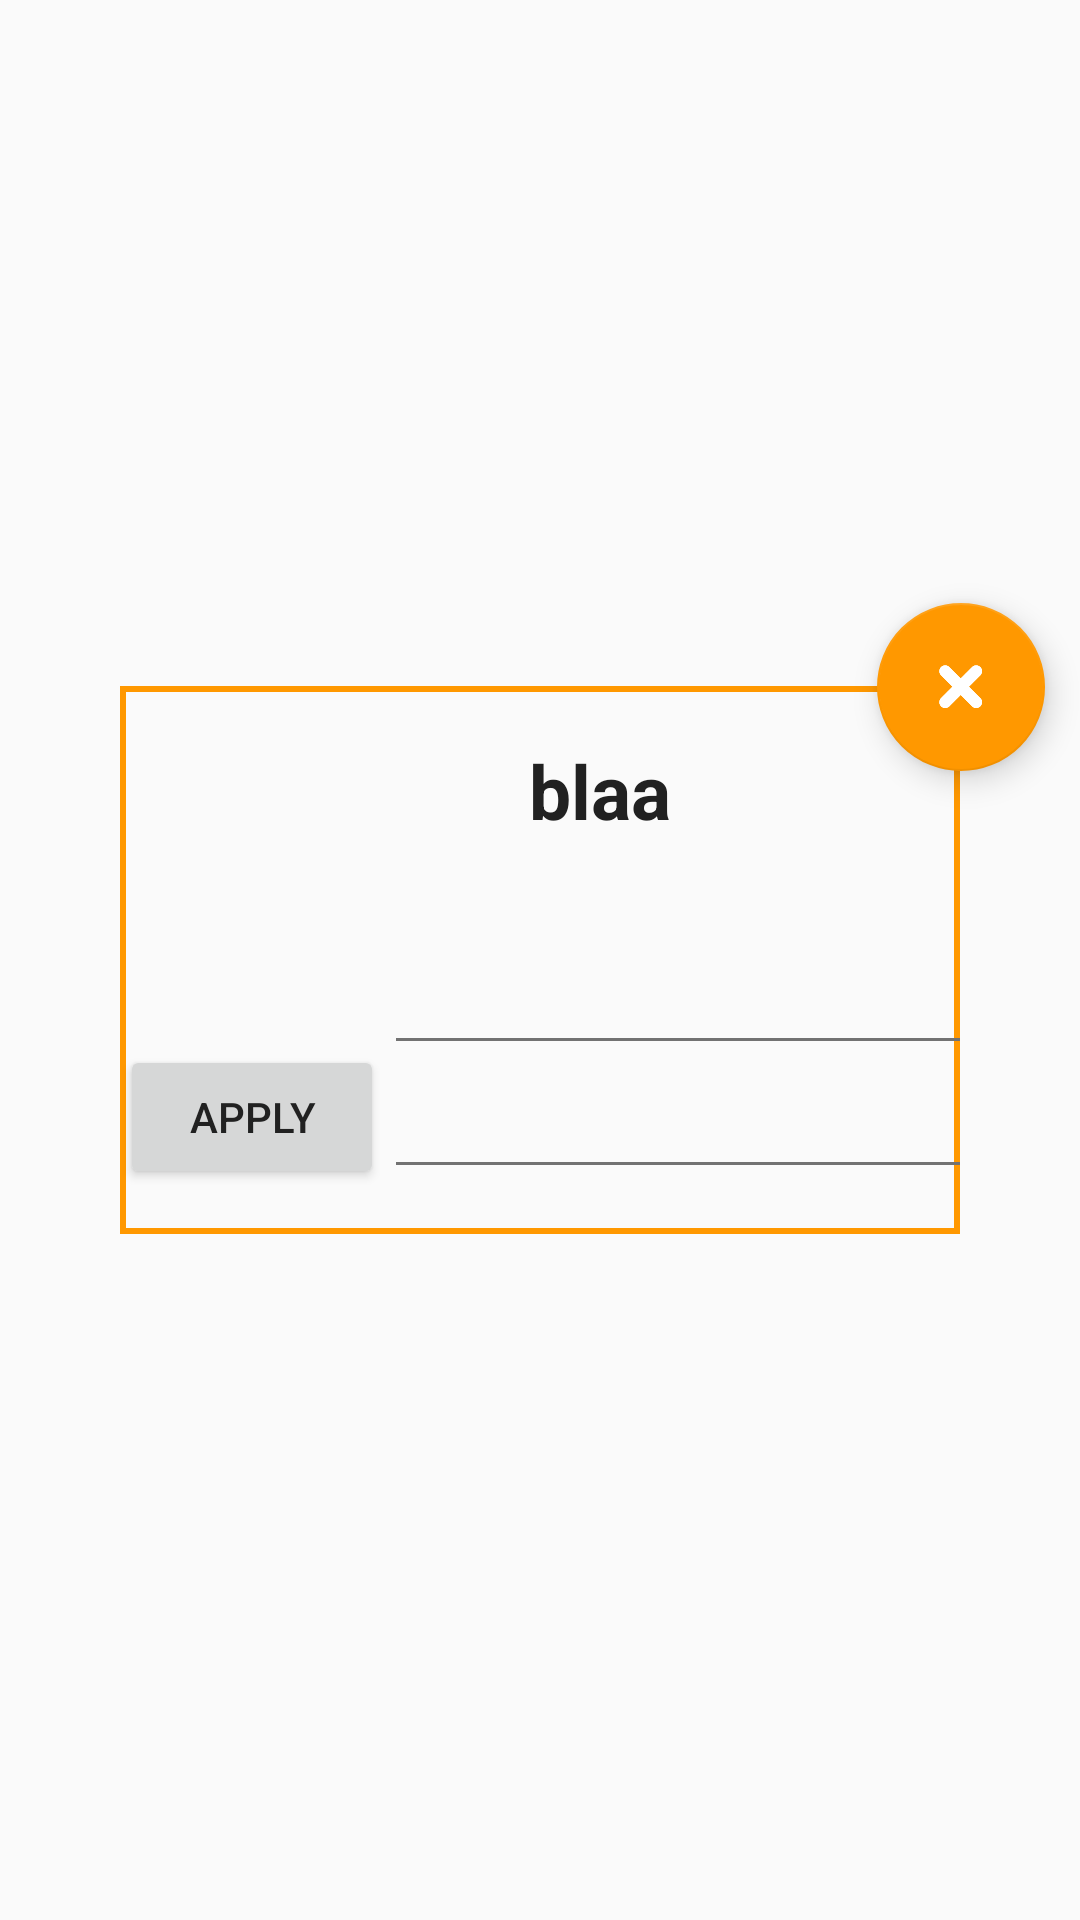

Named icons in this screenshot (1080 x 1920) and their centers, point (x, y):
closecross: point (961, 687)
